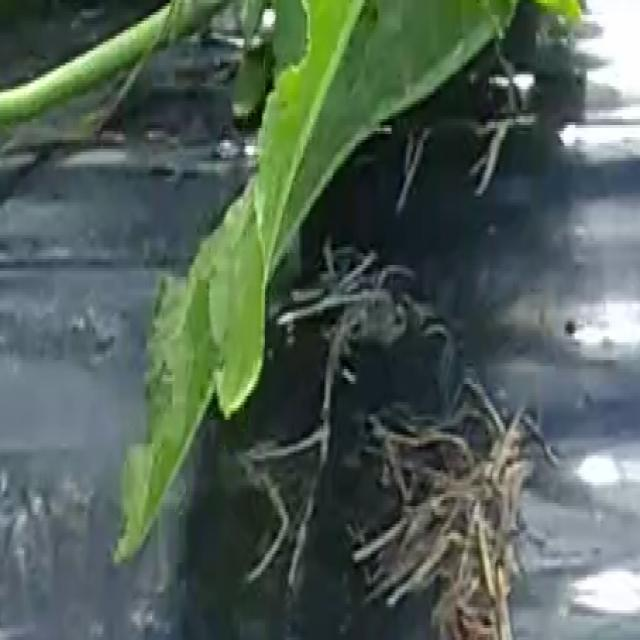organic waste: (104, 0, 540, 545)
